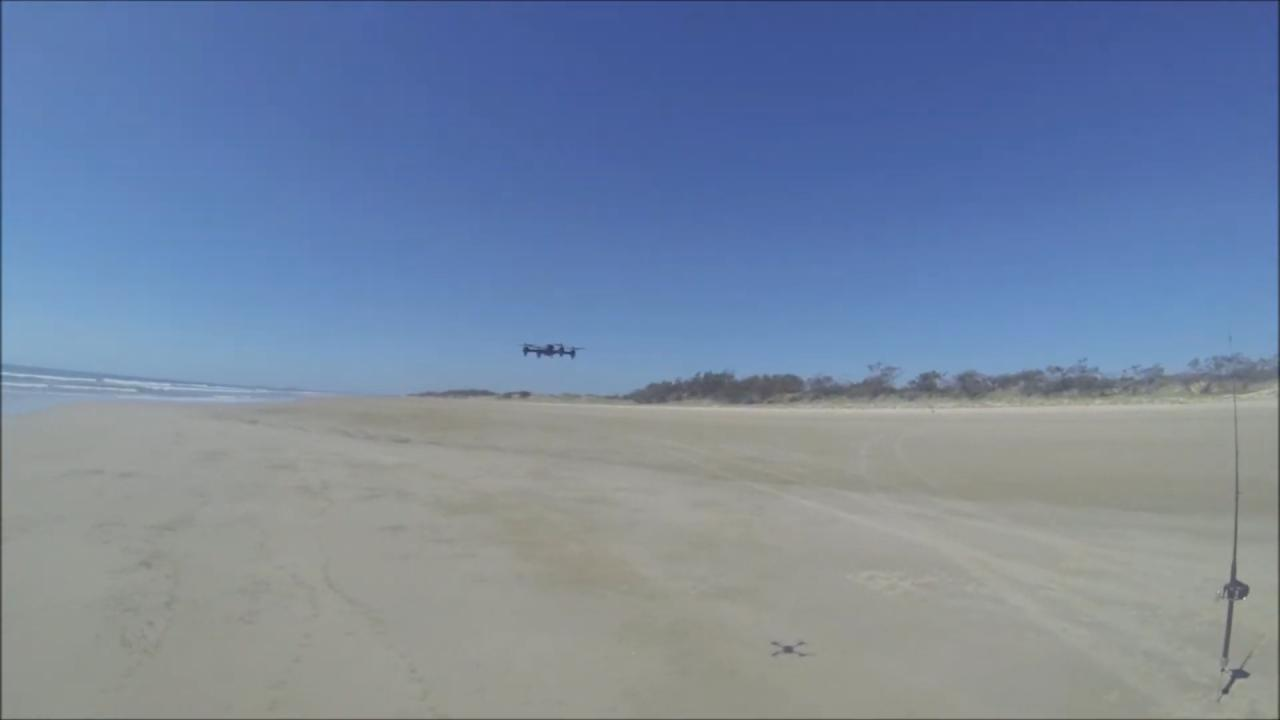Drone: (507, 326, 593, 371)
